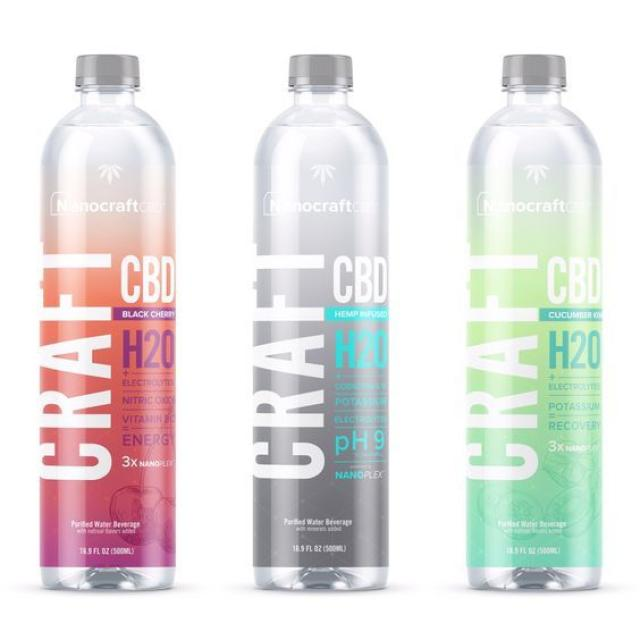bottle: (464, 52, 606, 595), (36, 52, 178, 594), (250, 52, 390, 595)
